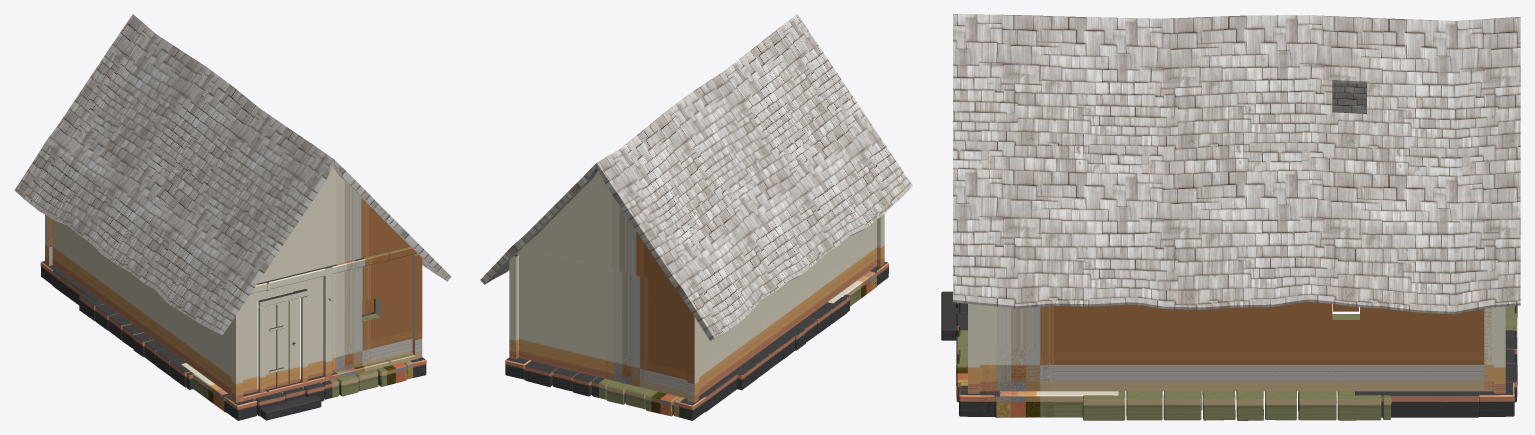
Rendered from tier1_residence_retopo_v28.glb.
The picture shows the model from 3 angles, left to right: view 1: azimuth 30°, elevation 25°; view 2: azimuth 150°, elevation 25°; view 3: azimuth 270°, elevation 25°; orthographic projection. The views are drawn at different scales.
Parts seen in each view (by area): view 1: T1_RoofSkin_Left, T1_Wall_Front_SquareHole, T1_Gable_Front, T1_Wall_Left_A, T1_Door_Front, T1_Wall_Front_Door, T1_Foundation_Left_Centre, T1_Wall_Left_SquareHole, T1_Foundation_Corner_Front_Left, T1_Foundation_Corner_Front_Right, T1_Front_WallPlate, T1_RoofSkin_Right (+7 smaller); view 2: T1_RoofSkin_Left, T1_Wall_Rear, T1_Gable_Rear, T1_Wall_Left_A, T1_Foundation_Corner_Rear_Left, T1_Foundation_Left_Centre, T1_Wall_Left_SquareHole, T1_Foundation_Corner_Rear_Right, T1_RoofSkin_Right, T1_Wall_Left_C, T1_Post_Rear_-2, T1_Post_Rear_+2 (+2 smaller); view 3: T1_RoofSkin_Right, T1_Wall_Right_A, T1_Wall_Right_SquareHole, T1_Foundation_Right_Centre, T1_Wall_Right_C, T1_Foundation_Corner_Rear_Right, T1_Foundation_Corner_Front_Right, T1_Post_Front_+2, T1_RoofSkin_Left, T1_Post_Rear_+2, T1_Wall_Front_SquareHole, T1_Wall_Rear (+1 smaller).
Part boxes in pixels (x1,y1,x2,y2): T1_RoofSkin_Left: [14, 14, 334, 334]; T1_Wall_Front_SquareHole: [332, 254, 412, 372]; T1_Gable_Front: [257, 167, 409, 283]; T1_Wall_Left_A: [131, 273, 231, 395]; T1_Door_Front: [258, 289, 308, 397]; T1_Wall_Front_Door: [243, 276, 323, 394]; T1_Foundation_Left_Centre: [79, 294, 193, 389]; T1_Wall_Left_SquareHole: [79, 235, 130, 321]; T1_Foundation_Corner_Front_Left: [181, 363, 332, 420]; T1_Foundation_Corner_Front_Right: [329, 357, 426, 397]; T1_Front_WallPlate: [250, 246, 417, 293]; T1_RoofSkin_Right: [333, 160, 451, 281]; T1_RoofSkin_Left: [596, 14, 912, 340]; T1_Wall_Rear: [516, 248, 698, 398]; T1_Gable_Rear: [523, 170, 671, 283]; T1_Wall_Left_A: [773, 220, 876, 341]; T1_Foundation_Corner_Rear_Left: [599, 363, 748, 420]; T1_Foundation_Left_Centre: [737, 294, 849, 390]; T1_Wall_Left_SquareHole: [722, 293, 773, 378]; T1_Foundation_Corner_Rear_Right: [505, 357, 604, 397]; T1_RoofSkin_Right: [480, 163, 597, 284]; T1_Wall_Left_C: [699, 324, 721, 395]; T1_Post_Rear_-2: [687, 307, 698, 402]; T1_Post_Rear_+2: [509, 254, 518, 359]; T1_RoofSkin_Right: [953, 14, 1520, 314]; T1_Wall_Right_A: [982, 304, 1273, 391]; T1_Wall_Right_SquareHole: [1273, 302, 1418, 391]; T1_Foundation_Right_Centre: [1082, 391, 1391, 420]; T1_Wall_Right_C: [1419, 308, 1491, 391]; T1_Foundation_Corner_Rear_Right: [1355, 330, 1517, 417]; T1_Foundation_Corner_Front_Right: [956, 330, 1118, 417]; T1_Post_Front_+2: [968, 303, 979, 393]; T1_RoofSkin_Left: [1332, 82, 1366, 113]; T1_Post_Rear_+2: [1494, 306, 1505, 393]; T1_Wall_Front_SquareHole: [979, 305, 989, 391]; T1_Wall_Rear: [1484, 232, 1498, 391].
Size of the model in its own units: 5.32 by 5.14 by 7.96.
8 materials, 8 textured.
